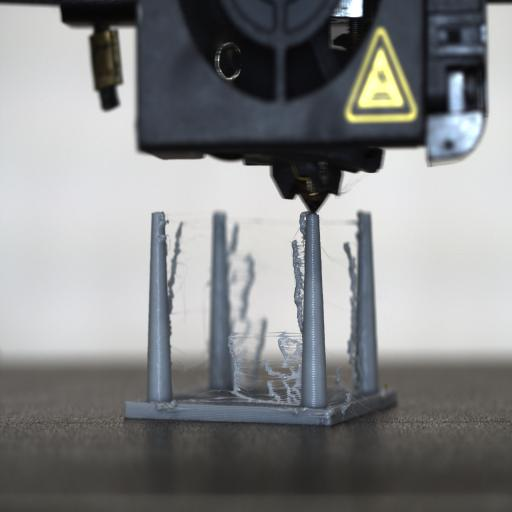stringing: (176, 210, 360, 414)
